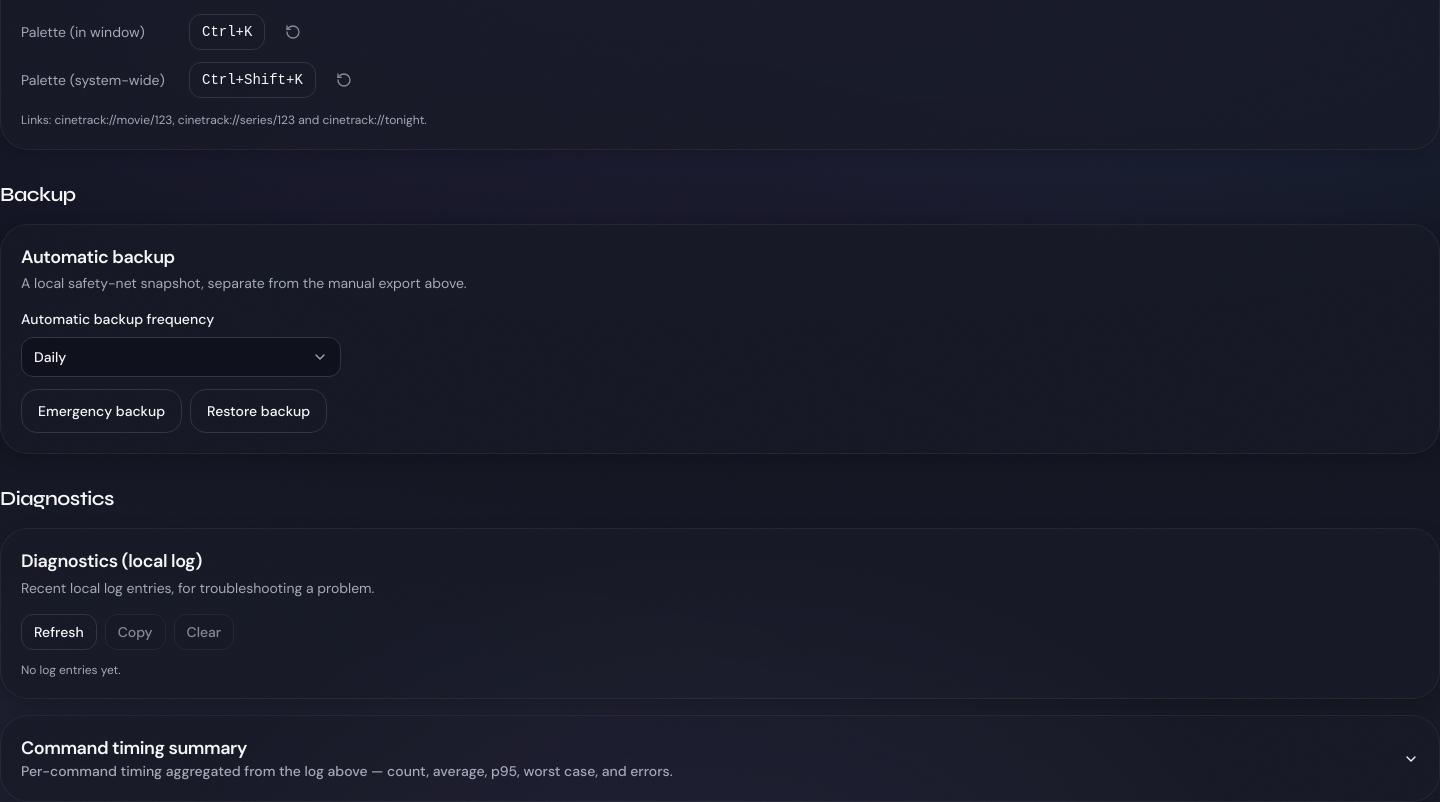
DesktopSettings › restore flow › startRestore opens the ConfirmDialog with the backup date when info is found
(page scrolled)
Click the button "Restore backup". click: (259, 411)
box: [190,389,327,433]
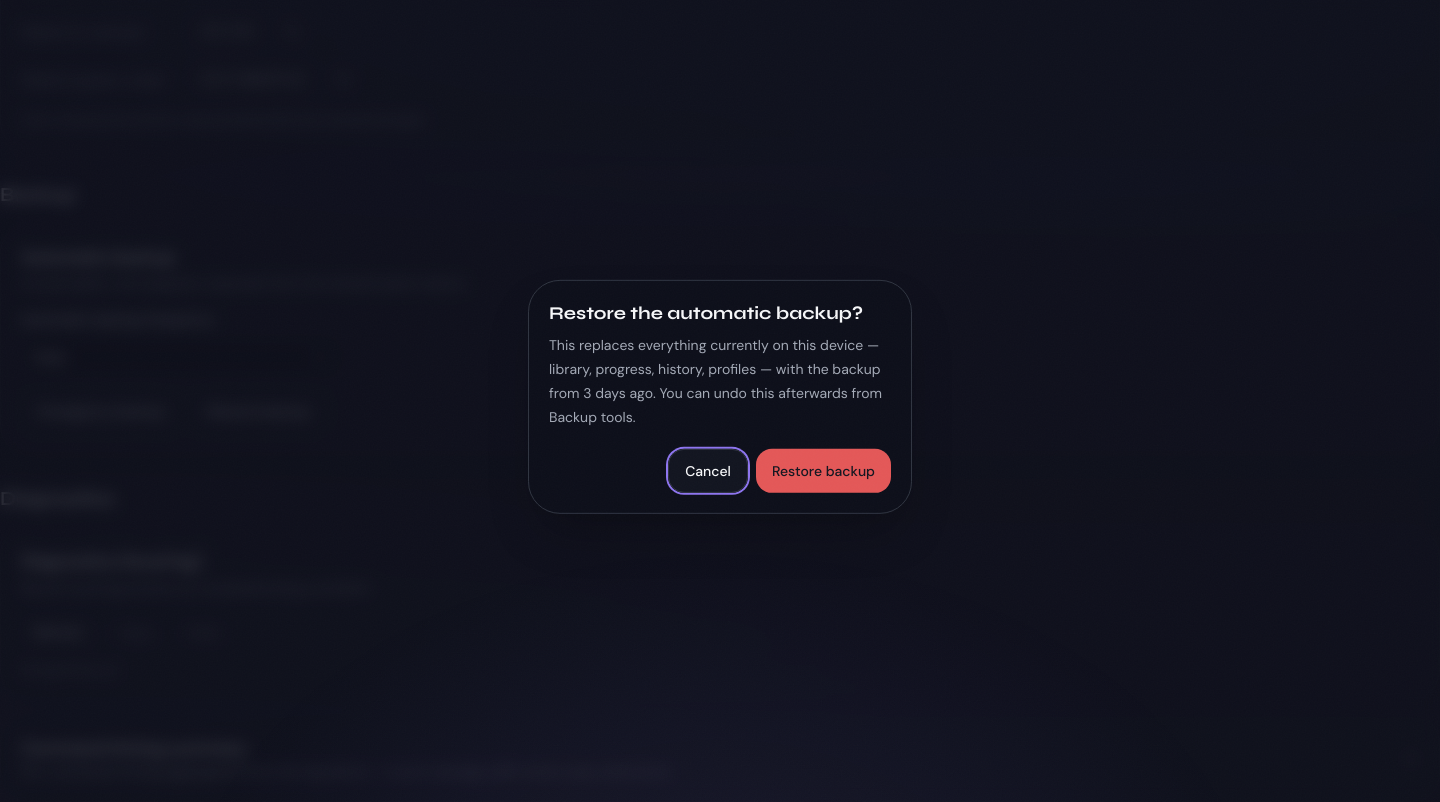
Expected: the heading "Restore the automatic backup?" is shown, [549,301,891,325]
